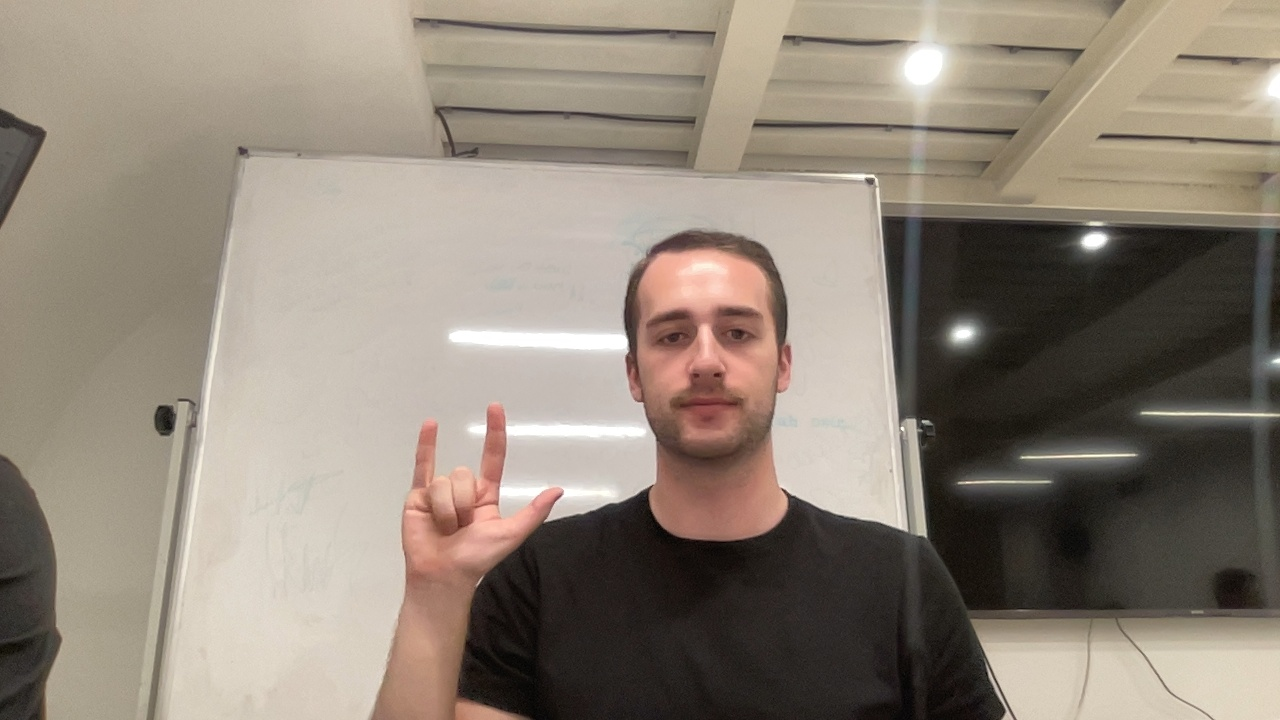I Love You: (396, 395, 572, 599)
